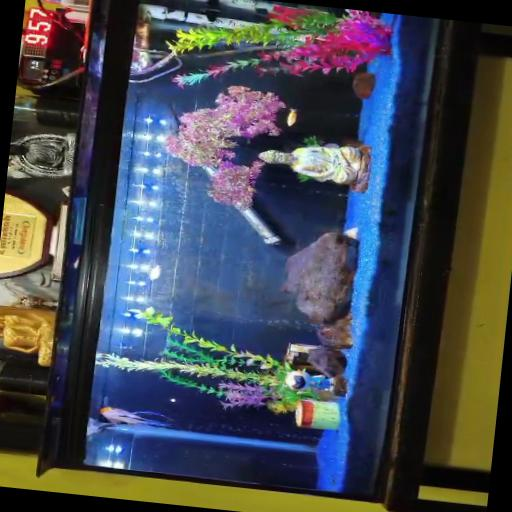Fish: (100, 406, 173, 426), (88, 418, 112, 435), (150, 265, 161, 279), (288, 108, 297, 125)
